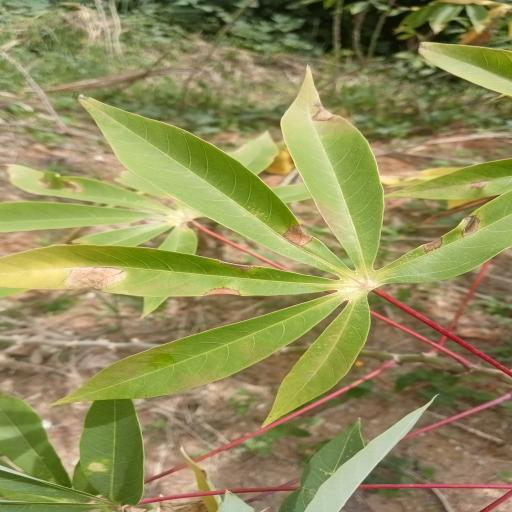Cassava_Root_Rot: (0, 80, 512, 414)
